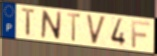4: (109, 17, 128, 49)
F: (130, 20, 151, 50)
N: (39, 9, 63, 42)
T: (65, 11, 83, 43), (20, 7, 37, 38)
V: (85, 13, 108, 46)
